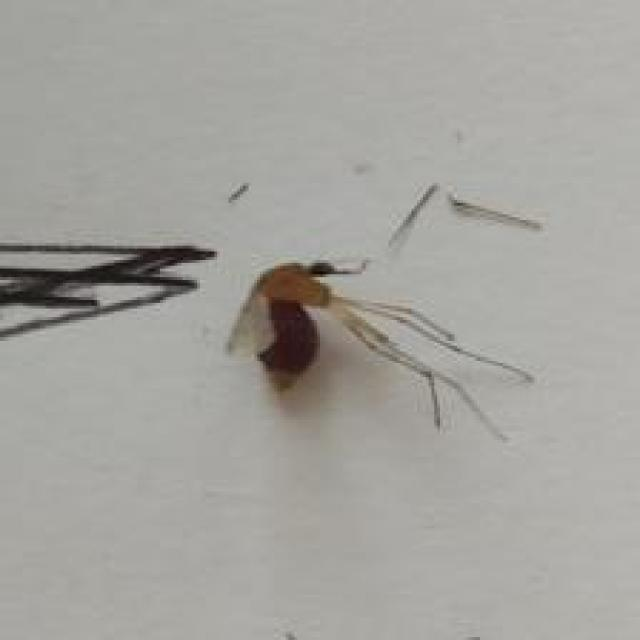Culex: (224, 257, 536, 443)
